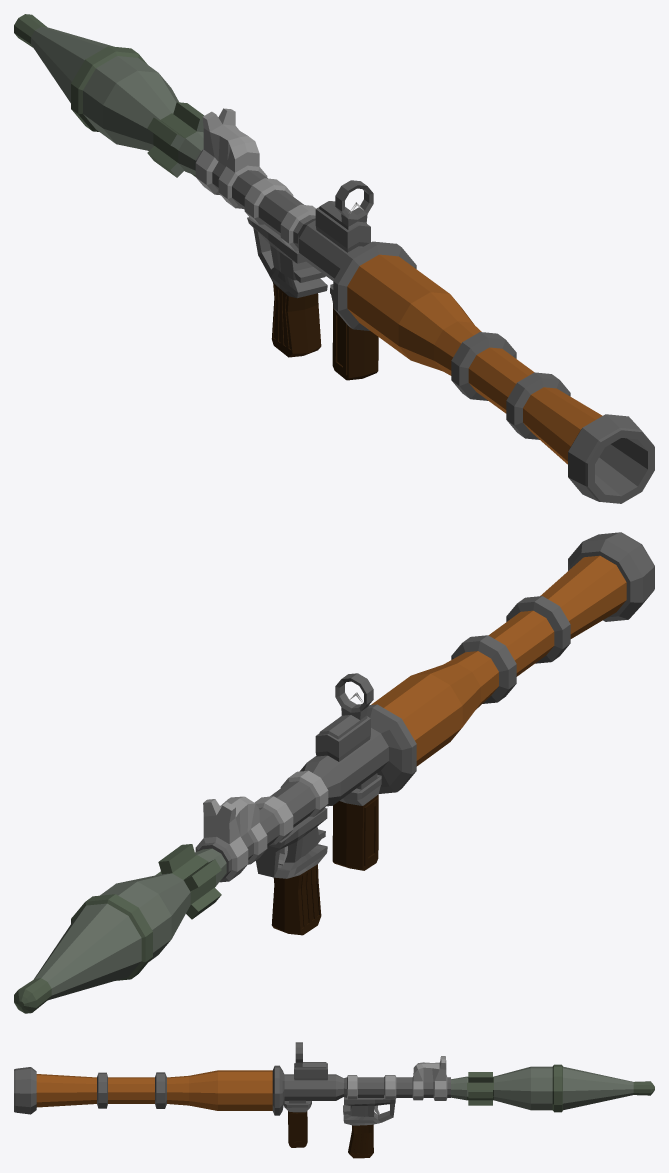
The model's file is low poly RPG.fbx.
3 views of the same model, one above another, from view 1: azimuth 30°, elevation 25°; view 2: azimuth 150°, elevation 25°; view 3: azimuth 270°, elevation 25° (orthographic). The views are drawn at different scales.
Parts seen in each view (by area): view 1: Цилиндр, Цилиндр.001, Cube, Куб; view 2: Цилиндр, Цилиндр.001, Cube, Куб; view 3: Цилиндр, Цилиндр.001, Cube, Куб.
Boxes of the visible parts, box(x1,y1,x2,y2) form: Цилиндр: box(195, 108, 654, 503); Цилиндр.001: box(14, 14, 204, 177); Cube: box(247, 217, 327, 357); Куб: box(330, 284, 378, 380); Цилиндр: box(195, 532, 654, 882); Цилиндр.001: box(14, 844, 226, 1013); Cube: box(256, 808, 327, 935); Куб: box(332, 773, 381, 870); Цилиндр: box(14, 1042, 450, 1115); Цилиндр.001: box(451, 1064, 654, 1112); Cube: box(343, 1097, 395, 1158); Куб: box(284, 1100, 311, 1147).
Bounding box in the file's own units: 110 × 281 × 1448.
